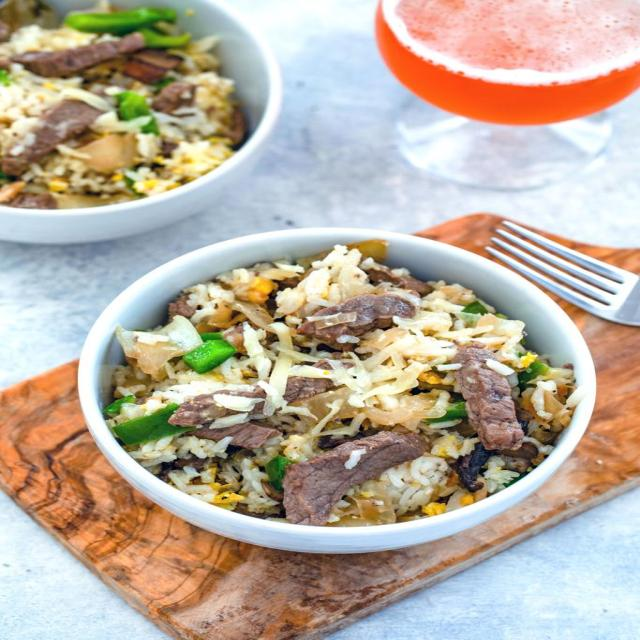Nasi Goreng: (101, 238, 581, 528)
